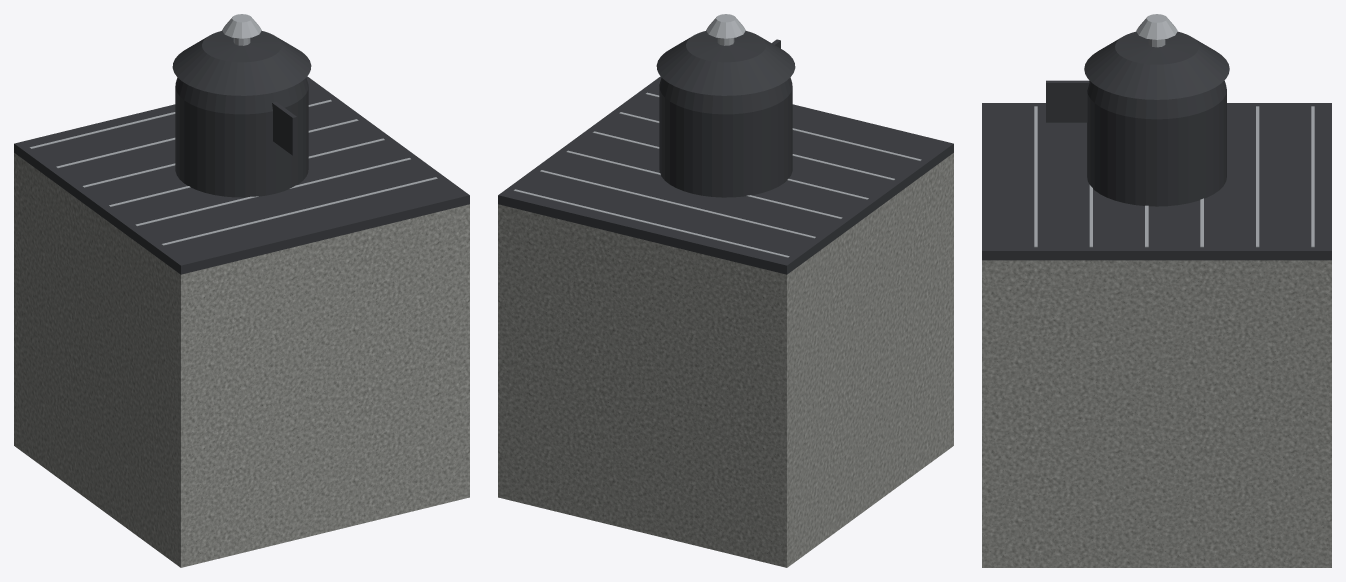
3 renders of one model, left to right at view 1: azimuth 30°, elevation 25°; view 2: azimuth 150°, elevation 25°; view 3: azimuth 270°, elevation 25°, orthographic. The views are drawn at different scales.
Parts seen in each view (by area): view 1: aboveGroundHeight=1;bodyDepth=2;bodyLength=1.7;bodyWidth=1.7 (×3); view 2: aboveGroundHeight=1;bodyDepth=2;bodyLength=1.7;bodyWidth=1.7 (×3); view 3: aboveGroundHeight=1;bodyDepth=2;bodyLength=1.7;bodyWidth=1.7 (×3).
Part boxes in pixels (x1,y1,x2,y2): aboveGroundHeight=1;bodyDepth=2;bodyLength=1.7;bodyWidth=1.7 (×3): [14, 14, 469, 567]; aboveGroundHeight=1;bodyDepth=2;bodyLength=1.7;bodyWidth=1.7 (×3): [498, 14, 953, 567]; aboveGroundHeight=1;bodyDepth=2;bodyLength=1.7;bodyWidth=1.7 (×3): [982, 14, 1331, 567].
Bounding box in the file's own units: 2 × 2 × 3.
3 materials, 1 textured.
